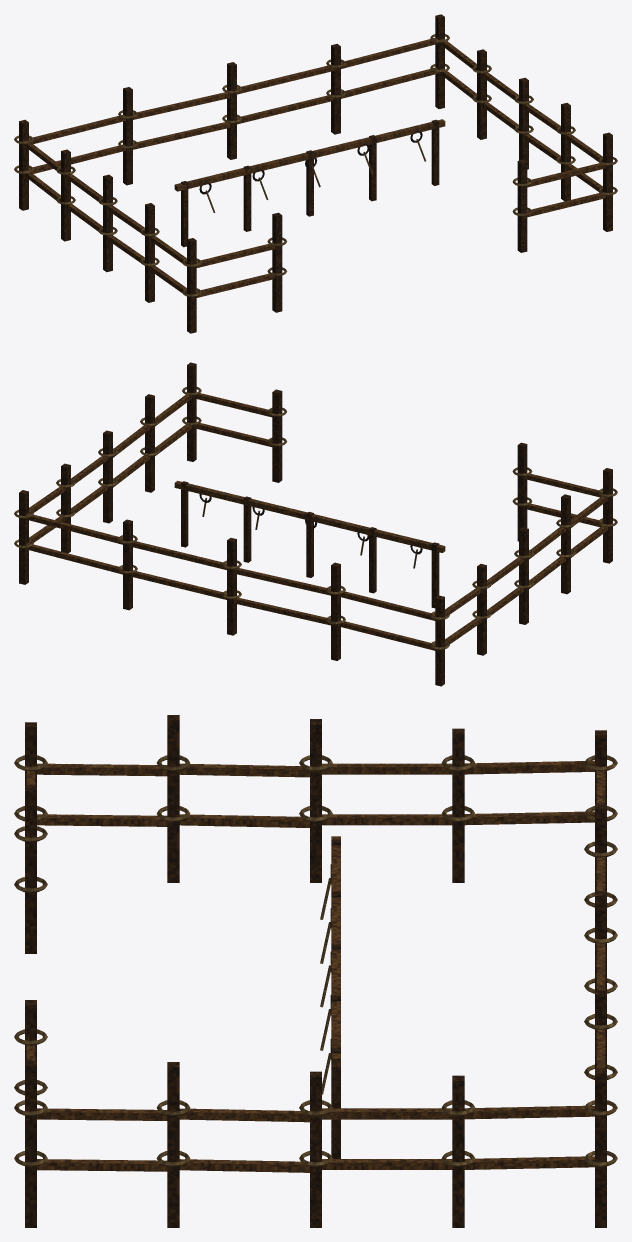
The model's file is medieval_horse_corral_3d_runtime.glb.
The picture shows the model from 3 angles, top to bottom: view 1: azimuth 30°, elevation 25°; view 2: azimuth 150°, elevation 25°; view 3: azimuth 270°, elevation 25°; orthographic projection. The views are drawn at different scales.
Visible parts, largest first — view 1: HORSE_CORRAL_WOOD_DARK_BATCH, HORSE_CORRAL_WOOD_MID_BATCH, HORSE_CORRAL_ROPE_BATCH; view 2: HORSE_CORRAL_WOOD_DARK_BATCH, HORSE_CORRAL_WOOD_MID_BATCH, HORSE_CORRAL_ROPE_BATCH; view 3: HORSE_CORRAL_WOOD_MID_BATCH, HORSE_CORRAL_WOOD_DARK_BATCH, HORSE_CORRAL_ROPE_BATCH.
Part boxes in pixels (x1,y1,x2,y2): HORSE_CORRAL_WOOD_DARK_BATCH: [19, 14, 612, 333]; HORSE_CORRAL_WOOD_MID_BATCH: [23, 37, 605, 297]; HORSE_CORRAL_ROPE_BATCH: [14, 34, 617, 296]; HORSE_CORRAL_WOOD_DARK_BATCH: [19, 362, 612, 686]; HORSE_CORRAL_WOOD_MID_BATCH: [26, 392, 608, 650]; HORSE_CORRAL_ROPE_BATCH: [14, 387, 617, 649]; HORSE_CORRAL_WOOD_MID_BATCH: [26, 760, 605, 1172]; HORSE_CORRAL_WOOD_DARK_BATCH: [25, 715, 606, 1227]; HORSE_CORRAL_ROPE_BATCH: [14, 755, 617, 1166].
Bounding box in the file's own units: 7.6 × 1.61 × 5.4.
Materials: 4 (4 with a texture image).
